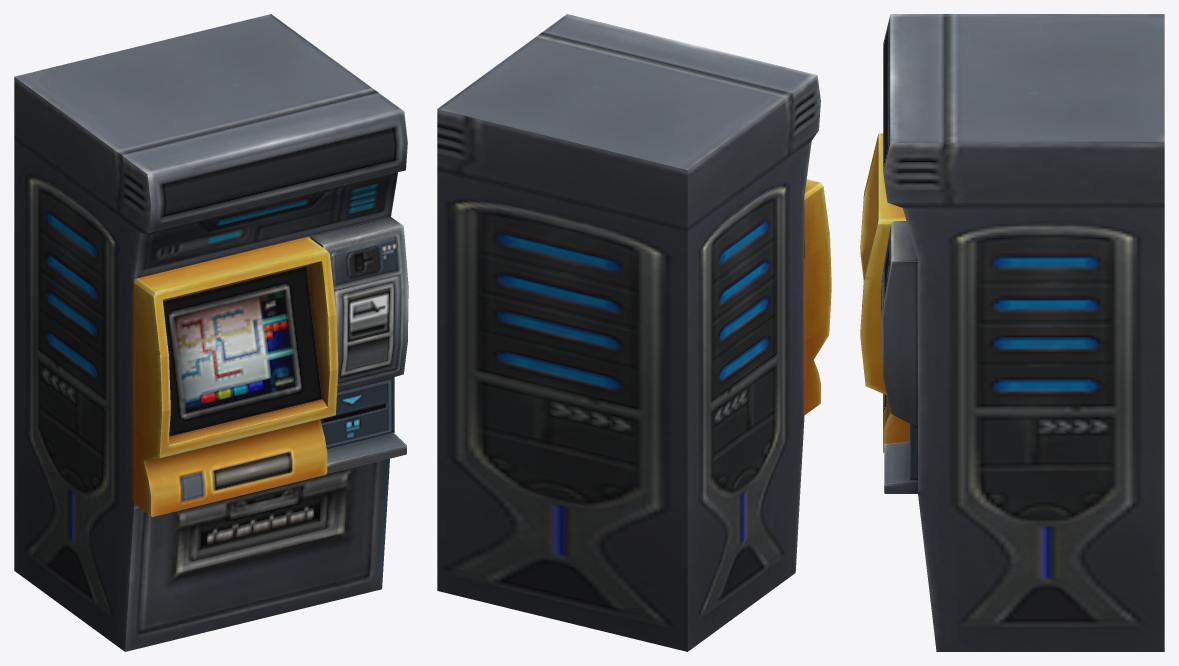
The picture shows the model from 3 angles, left to right: view 1: azimuth 30°, elevation 25°; view 2: azimuth 150°, elevation 25°; view 3: azimuth 270°, elevation 25°; orthographic projection. The views are drawn at different scales.
Parts seen in each view (by area): view 1: gk_wj029_01; view 2: gk_wj029_01; view 3: gk_wj029_01.
Part boxes in pixels (box(x1,y1,x2,y2)): gk_wj029_01: box(14, 14, 408, 651); gk_wj029_01: box(437, 14, 831, 651); gk_wj029_01: box(860, 14, 1164, 651).
Size of the model in its own units: 116 by 214 by 116.
1 material, 1 textured.
